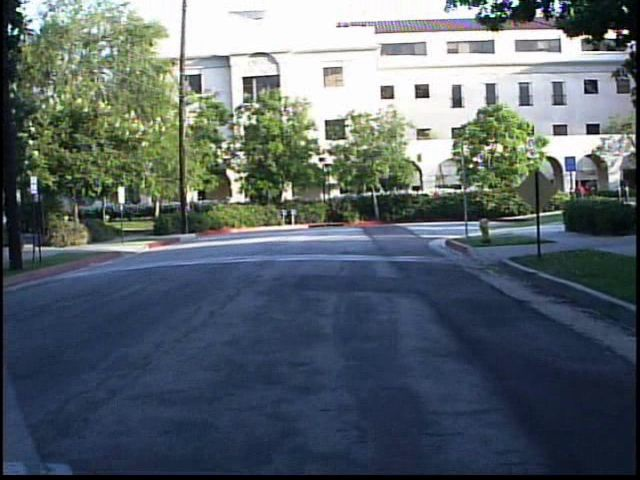person: (572, 179, 591, 222)
